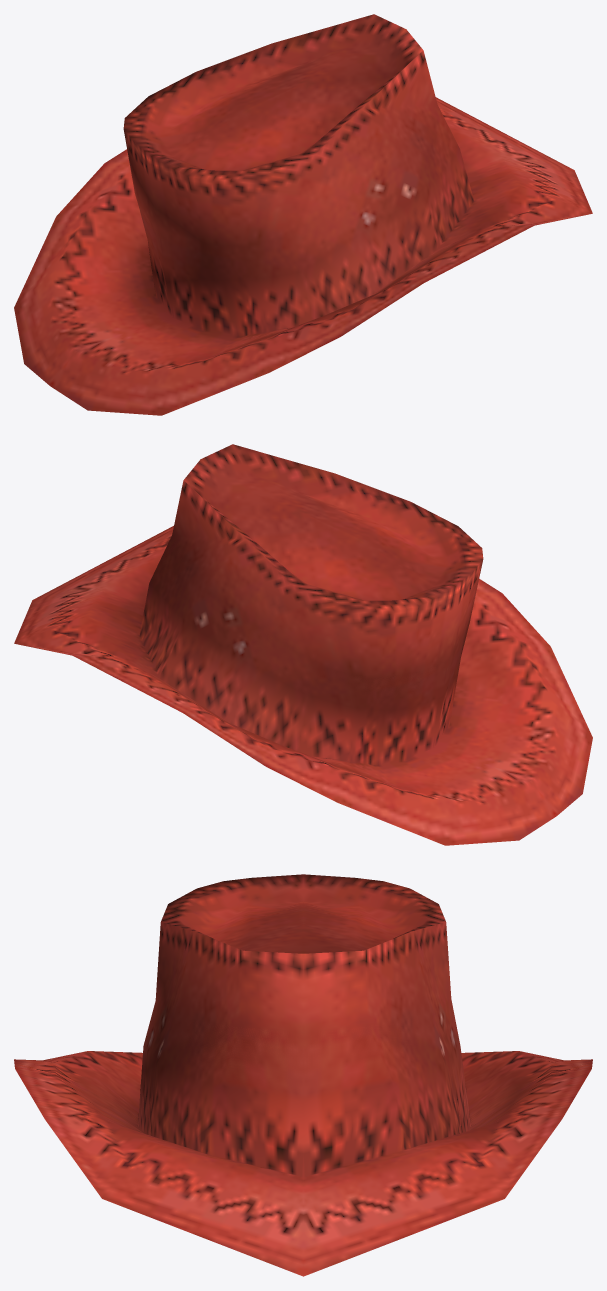
File: hat_0450007.FBX
The picture shows the model from 3 angles, top to bottom: view 1: azimuth 30°, elevation 25°; view 2: azimuth 150°, elevation 25°; view 3: azimuth 270°, elevation 25°; orthographic projection. The views are drawn at different scales.
Parts seen in each view (by area): view 1: hat_0450007; view 2: hat_0450007; view 3: hat_0450007.
Part boxes in pixels (box(x1,y1,x2,y2)): hat_0450007: box(14, 14, 592, 415); hat_0450007: box(14, 444, 592, 845); hat_0450007: box(14, 874, 592, 1276).
Bounding box in the file's own units: 45.79 × 22.74 × 35.81.
